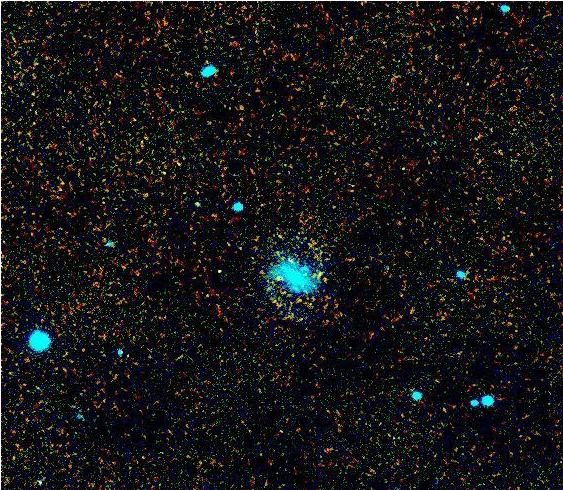star: (266, 263, 296, 293)
